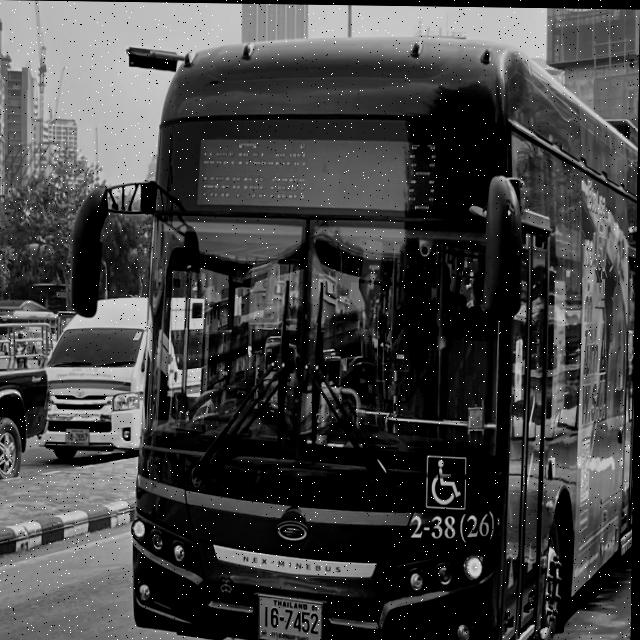Bus Line Number: (397, 133, 450, 221)
Bus Side Number: (406, 509, 499, 542)
Destination Sign: (190, 129, 329, 218)
TSB-Bus: (112, 21, 640, 640)
